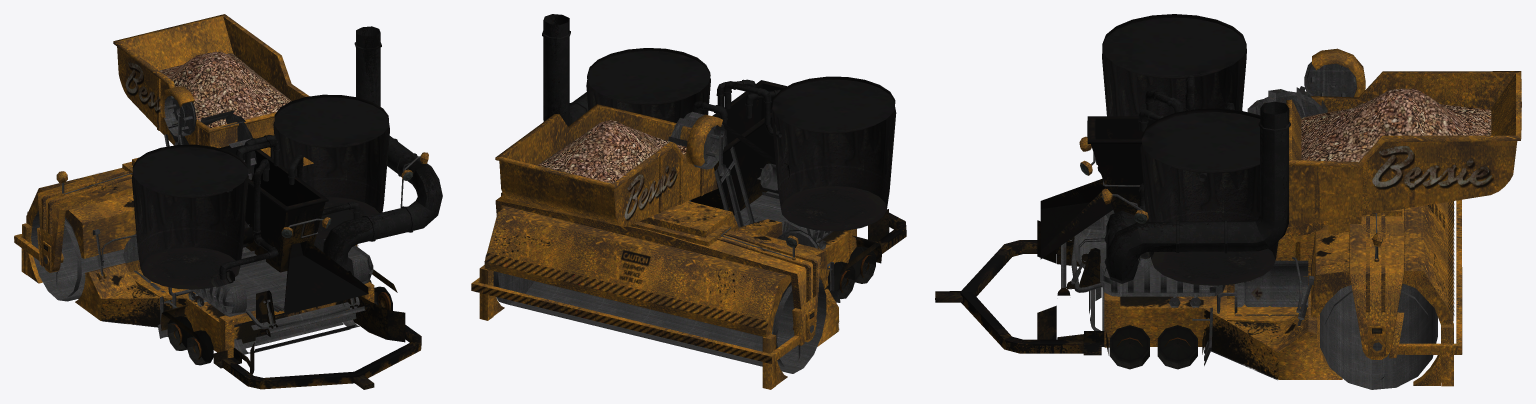
The model's file is model-bessie.glb.
3 renders of one model, left to right at view 1: azimuth 30°, elevation 25°; view 2: azimuth 150°, elevation 25°; view 3: azimuth 270°, elevation 25°, orthographic. The views are drawn at different scales.
Parts seen in each view (by area): view 1: Object_3, Object_7, Object_2, Object_4, Object_6, Object_5; view 2: Object_7, Object_3, Object_6, Object_2, Object_5, Object_4; view 3: Object_7, Object_3, Object_2, Object_6, Object_4, Object_5.
Boxes of the visible parts, x1,y1,x2,y2 form: Object_3: (131, 94, 389, 289); Object_7: (14, 14, 428, 357); Object_2: (159, 26, 442, 365); Object_4: (160, 145, 421, 389); Object_6: (31, 96, 420, 354); Object_5: (14, 62, 358, 343); Object_7: (471, 104, 856, 389); Object_3: (586, 48, 896, 231); Object_6: (493, 111, 840, 373); Object_2: (537, 14, 875, 298); Object_5: (471, 165, 845, 363); Object_4: (691, 80, 906, 273); Object_7: (1079, 48, 1521, 386); Object_3: (1095, 14, 1278, 285); Object_2: (1080, 75, 1491, 369); Object_6: (1061, 61, 1437, 389); Object_4: (935, 116, 1204, 355); Object_5: (1120, 145, 1494, 380).
Bounding box in the file's own units: 6.12 × 4.65 × 8.62.
Materials: 6 (6 with a texture image).
